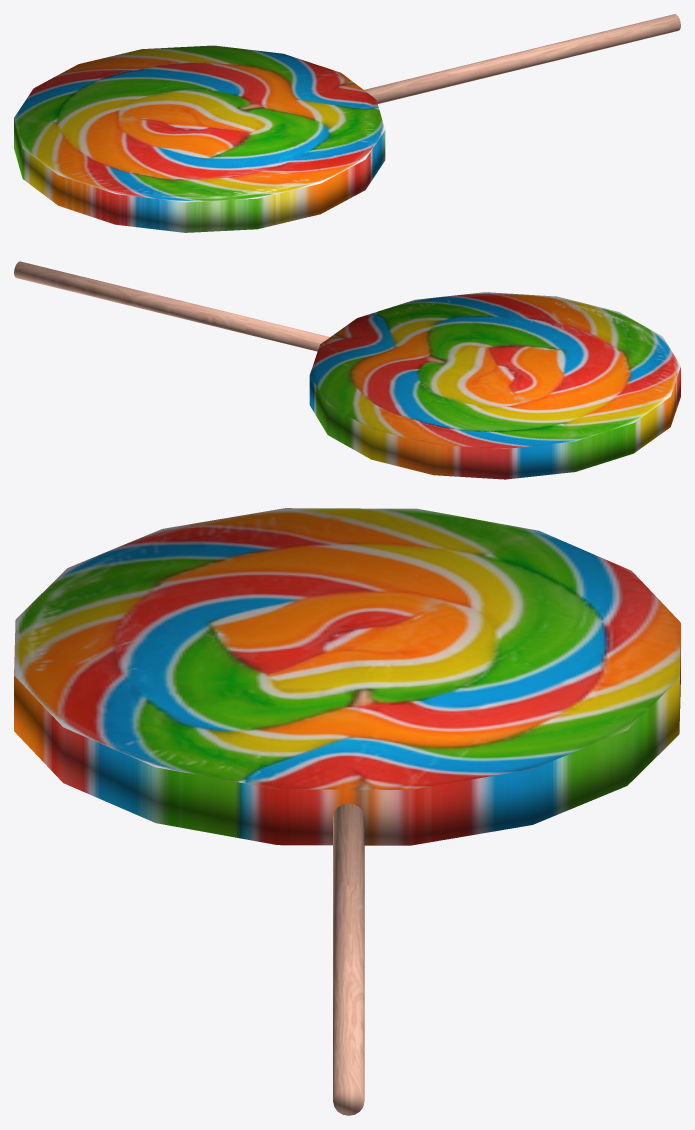
The model's file is WorldItem_BigLollipop.fbx.
The picture shows the model from 3 angles, top to bottom: view 1: azimuth 30°, elevation 25°; view 2: azimuth 150°, elevation 25°; view 3: azimuth 270°, elevation 25°; orthographic projection. The views are drawn at different scales.
Visible parts, largest first — view 1: BigLollipop; view 2: BigLollipop; view 3: BigLollipop.
Boxes of the visible parts, x1=… form: BigLollipop: x1=14, y1=14, x2=680, y2=232; BigLollipop: x1=14, y1=261, x2=680, y2=479; BigLollipop: x1=14, y1=508, x2=680, y2=1115.
Size of the model in its own units: 0.3622 by 0.0167 by 0.1805.
